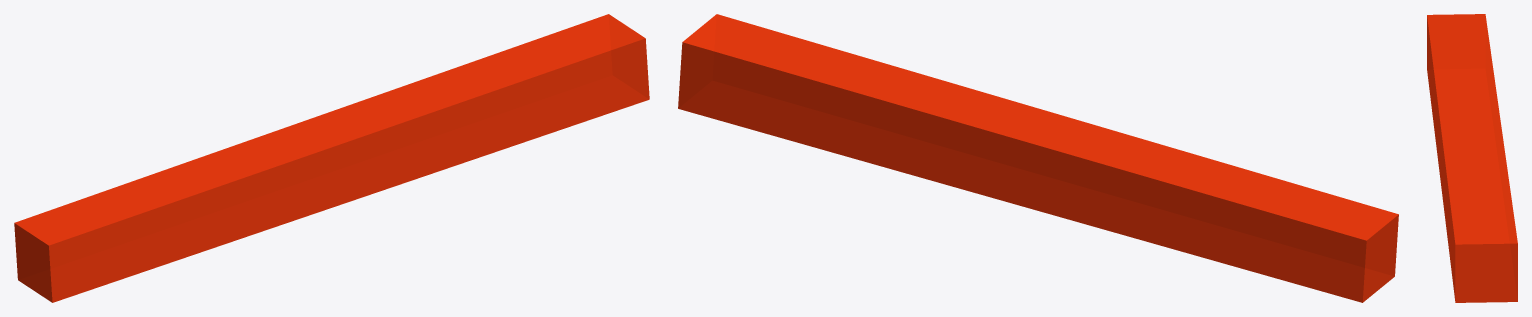
The model's file is Event_420094457_EErechit_40.fbx.
3 views of the same model, side by side, from view 1: azimuth 30°, elevation 25°; view 2: azimuth 150°, elevation 25°; view 3: azimuth 270°, elevation 25° (orthographic). The views are drawn at different scales.
Visible parts, largest first — view 1: Model; view 2: Model; view 3: Model.
Part boxes in pixels (box(x1,y1,x2,y2)): Model: box(14, 14, 649, 302); Model: box(678, 14, 1398, 302); Model: box(1427, 14, 1517, 302).
Size of the model in its own units: 0.8055 by 0.1304 by 0.1127.
